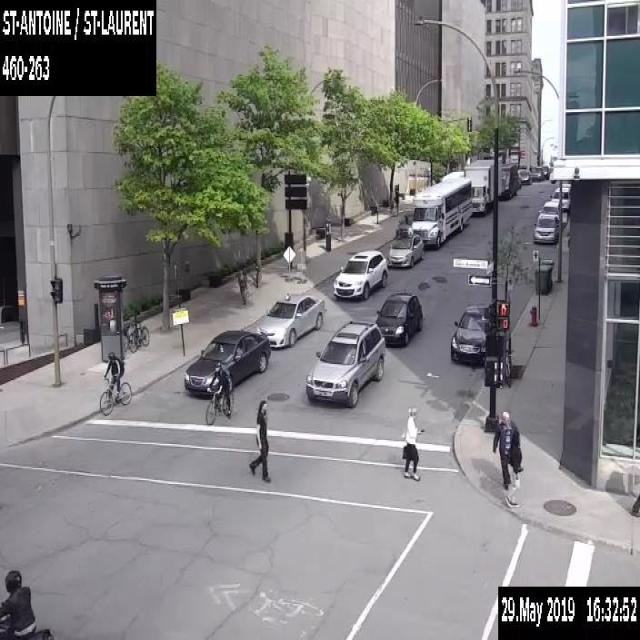bus: (409, 175, 471, 247)
construction: (282, 245, 295, 282), (296, 248, 306, 283)
cyclist: (97, 352, 132, 413), (205, 361, 233, 424)
pedestrian: (246, 399, 272, 481), (492, 409, 516, 491), (401, 406, 425, 478), (504, 428, 524, 507), (238, 269, 248, 307), (630, 493, 639, 516)
vehicle: (305, 320, 385, 406), (184, 329, 270, 394), (256, 292, 324, 346), (0, 566, 51, 638), (332, 248, 388, 298), (449, 300, 488, 364), (375, 291, 422, 344), (464, 158, 502, 212), (386, 232, 423, 266), (532, 212, 559, 243), (499, 162, 517, 198), (548, 186, 570, 209), (395, 211, 413, 235), (537, 200, 559, 217), (442, 170, 463, 180), (530, 165, 542, 180), (539, 164, 549, 178), (520, 169, 530, 183), (561, 182, 570, 190)
